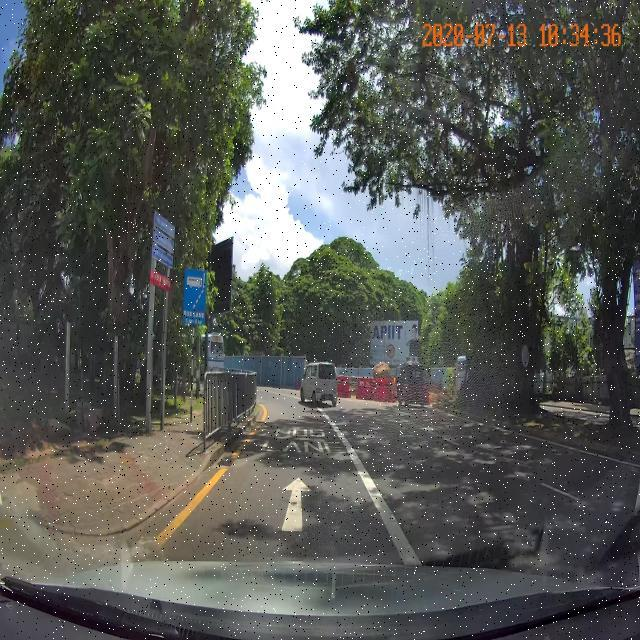forward: (158, 472, 410, 545)
